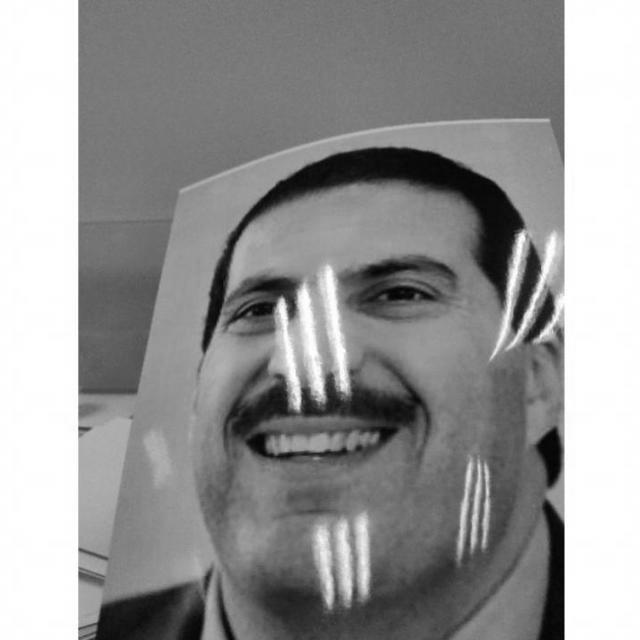fake: (92, 108, 566, 640)
